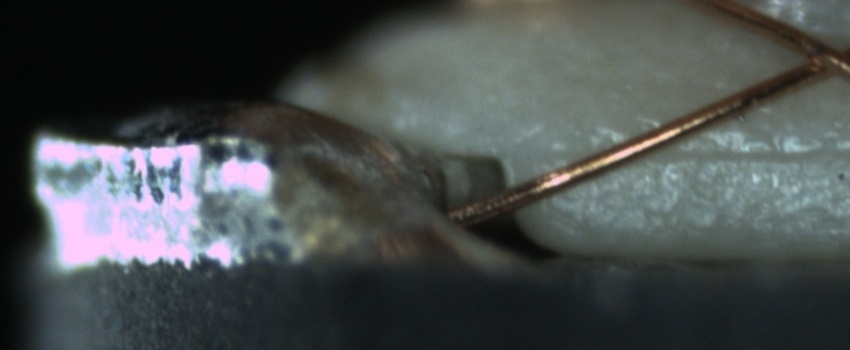CL: (780, 29, 847, 86)
DL: (622, 118, 848, 185)
